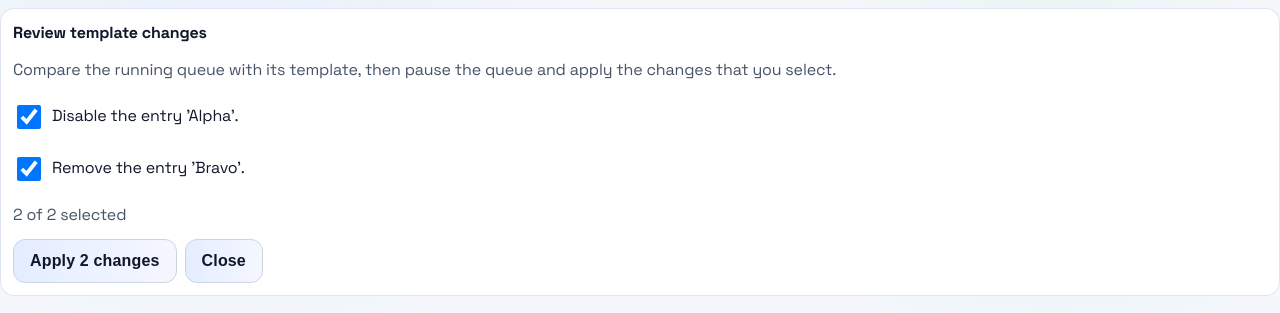
Test case: ReviewTemplateChangesDialog › applies only the selected differences with the token that it read
Click the checkbox labelled "Remove the entry 'Bravo'.". click: (29, 169)
box: [17,157,41,181]
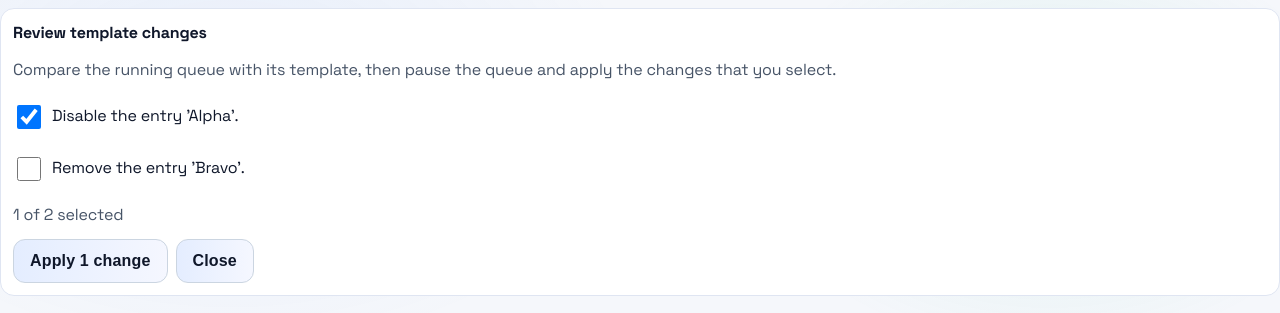
Click the button "Apply 1 change". click: (90, 261)
box: [13,239,168,283]
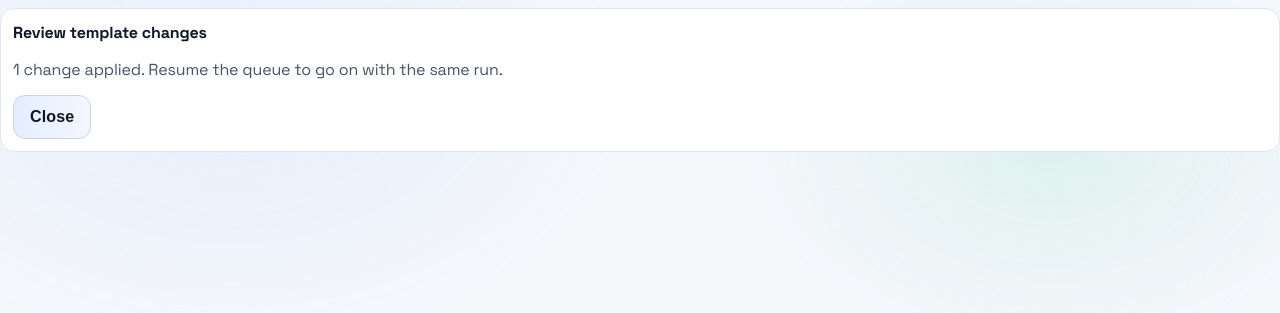
Now the message with test id "review-done" shows "1 change applied", box [13,59,502,80]
Now the message with test id "review-done" shows "Resume the queue", box [81,59,503,80]
